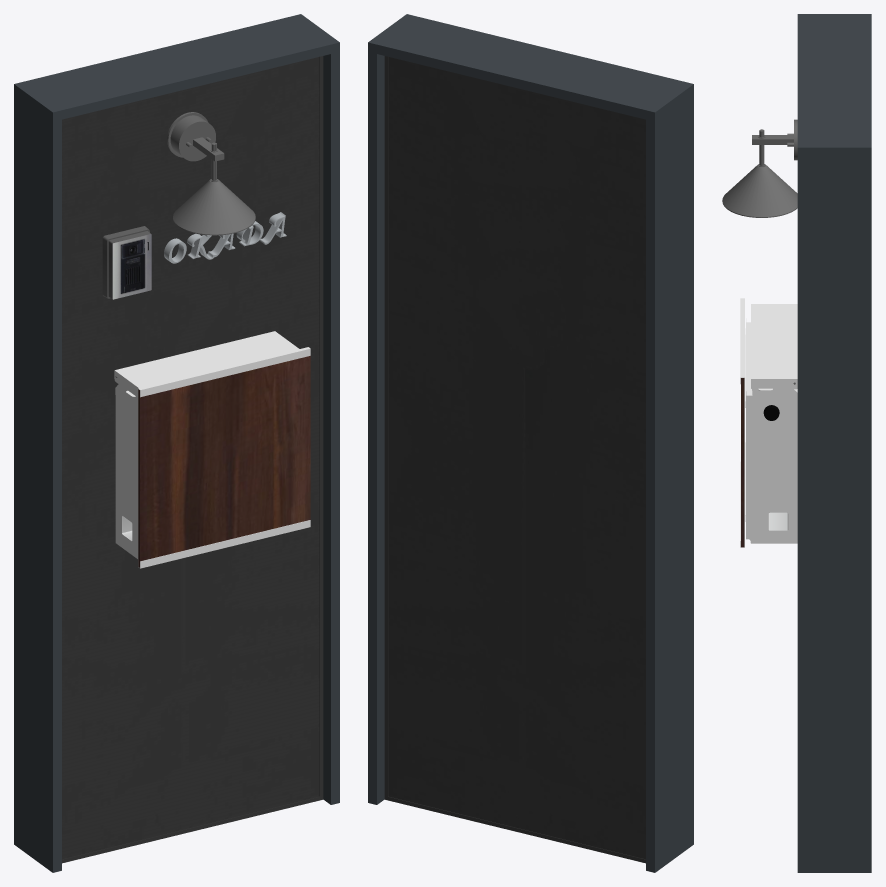
File: 620ｰ1620_matblack.fbx
3 views of the same model, side by side, from view 1: azimuth 30°, elevation 25°; view 2: azimuth 150°, elevation 25°; view 3: azimuth 270°, elevation 25° (orthographic). The views are drawn at different scales.
Parts seen in each view (by area): view 1: 620ｰ1620_matblack; view 2: 620ｰ1620_matblack; view 3: 620ｰ1620_matblack.
Part boxes in pixels (box(x1,y1,x2,y2)): 620ｰ1620_matblack: box(14, 14, 339, 872); 620ｰ1620_matblack: box(368, 14, 693, 872); 620ｰ1620_matblack: box(722, 14, 871, 872).
Size of the model in its own units: 64 by 162 by 30.22.
14 materials, 5 textured.
